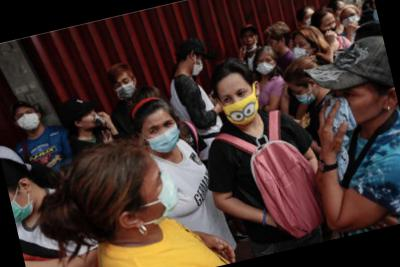mask_weared_incorrect: (80, 109, 103, 132), (241, 31, 259, 52)
with_mask: (134, 164, 186, 224), (327, 78, 383, 132), (220, 82, 264, 130), (143, 115, 184, 157), (10, 188, 38, 223), (290, 81, 318, 111), (15, 105, 43, 134), (113, 74, 139, 102), (290, 38, 314, 63), (254, 54, 276, 77), (319, 15, 339, 36), (341, 10, 360, 29), (191, 58, 207, 77)
